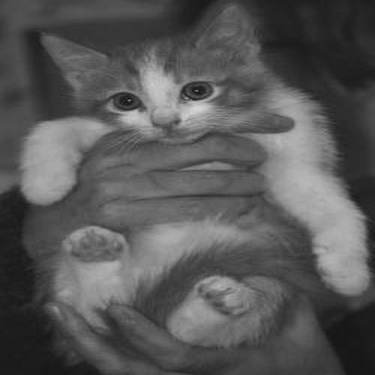cat: (26, 6, 373, 348)
